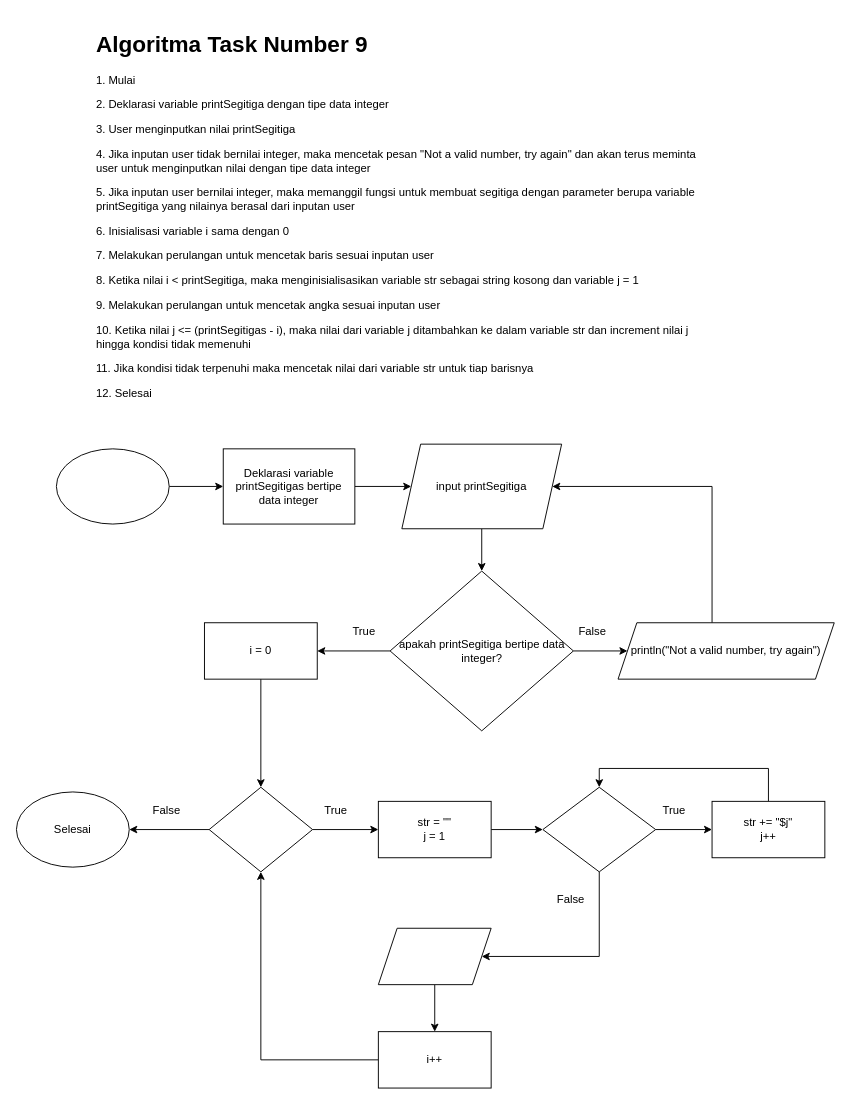
Image size: 851x1105. Some labels were removed from this diagram. The shapes that lost their labels are listed below. From the top down, each one's centre as x and y in pixels, then its label:
pixel 112 486: Mulai
pixel 260 829: i < printSegitiga
pixel 599 829: j <= (printSegitiga - i)
pixel 434 956: println(str)
